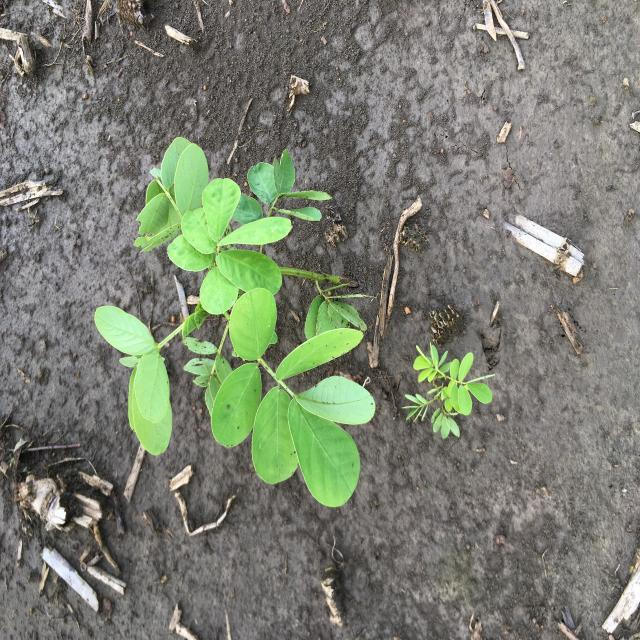Sicklepod: (92, 136, 377, 512), (400, 340, 498, 442)
